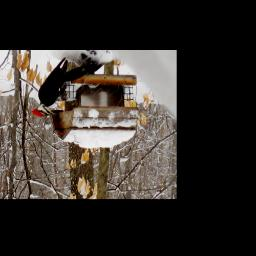Woodpecker: (30, 57, 97, 117)
